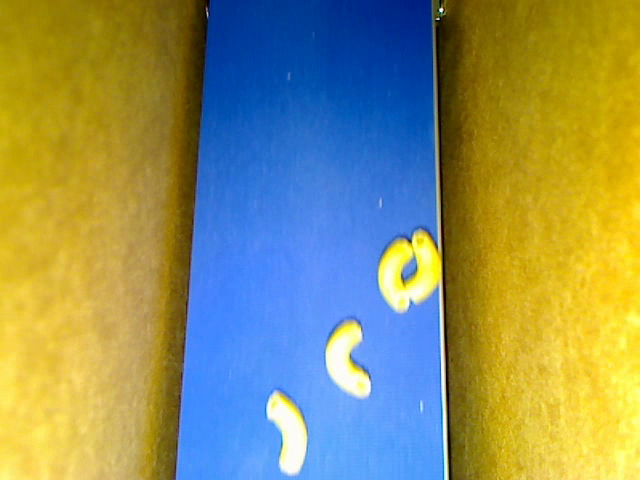elbow: (265, 389, 307, 476), (325, 319, 371, 398), (377, 235, 414, 314), (404, 226, 441, 304)
